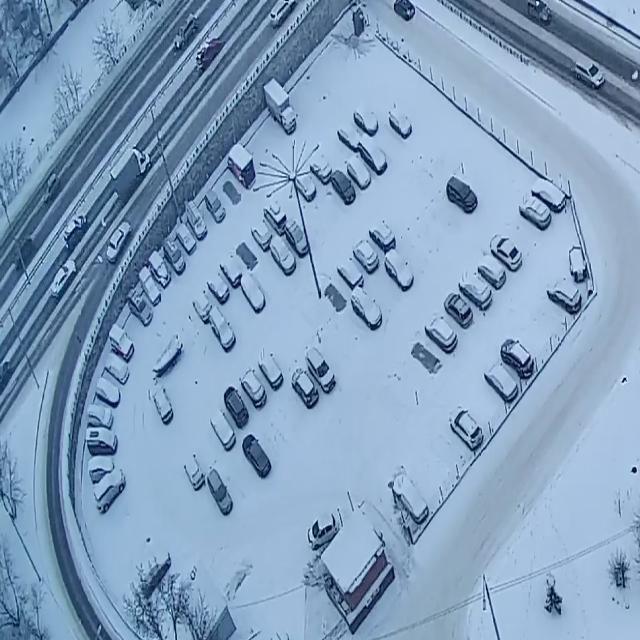car: (111, 144, 151, 208), (391, 472, 429, 527), (448, 401, 485, 457), (263, 76, 297, 136), (482, 356, 520, 409), (546, 270, 583, 320), (500, 334, 536, 384), (94, 466, 125, 520), (137, 546, 171, 594), (424, 311, 458, 357), (350, 284, 383, 331), (459, 270, 494, 314), (226, 142, 257, 191), (306, 348, 337, 396), (205, 467, 234, 518), (242, 433, 272, 482), (532, 174, 566, 217), (490, 229, 522, 274), (384, 246, 414, 293), (517, 192, 552, 232), (206, 406, 237, 451), (573, 52, 605, 94), (446, 175, 478, 217), (239, 363, 267, 411), (268, 230, 296, 278), (308, 511, 339, 553), (443, 290, 474, 332), (477, 249, 507, 292), (257, 347, 285, 393), (106, 219, 132, 268), (210, 306, 235, 355), (359, 134, 388, 176), (351, 235, 380, 277), (223, 384, 250, 429), (292, 367, 320, 410), (284, 214, 310, 260), (196, 32, 224, 74), (343, 152, 372, 192), (240, 268, 265, 314), (369, 216, 397, 257), (260, 199, 288, 240), (108, 324, 136, 364), (291, 164, 317, 206), (127, 286, 153, 328), (337, 255, 364, 295), (308, 144, 333, 187), (86, 428, 118, 461), (52, 258, 77, 300), (330, 169, 358, 206), (180, 449, 204, 492), (219, 247, 243, 290), (150, 382, 173, 426), (249, 212, 272, 256), (64, 212, 88, 254), (205, 266, 230, 306), (352, 99, 379, 136), (388, 103, 413, 142), (94, 375, 121, 411), (202, 186, 226, 225), (148, 251, 172, 290), (85, 456, 115, 487), (268, 0, 299, 30), (138, 266, 161, 306), (104, 350, 130, 385), (337, 118, 362, 154), (174, 14, 198, 51), (185, 202, 208, 240), (85, 403, 113, 434), (164, 238, 186, 276), (193, 286, 213, 327), (523, 0, 552, 28), (13, 234, 32, 276), (42, 169, 62, 206), (178, 222, 196, 256), (393, 0, 415, 24)
